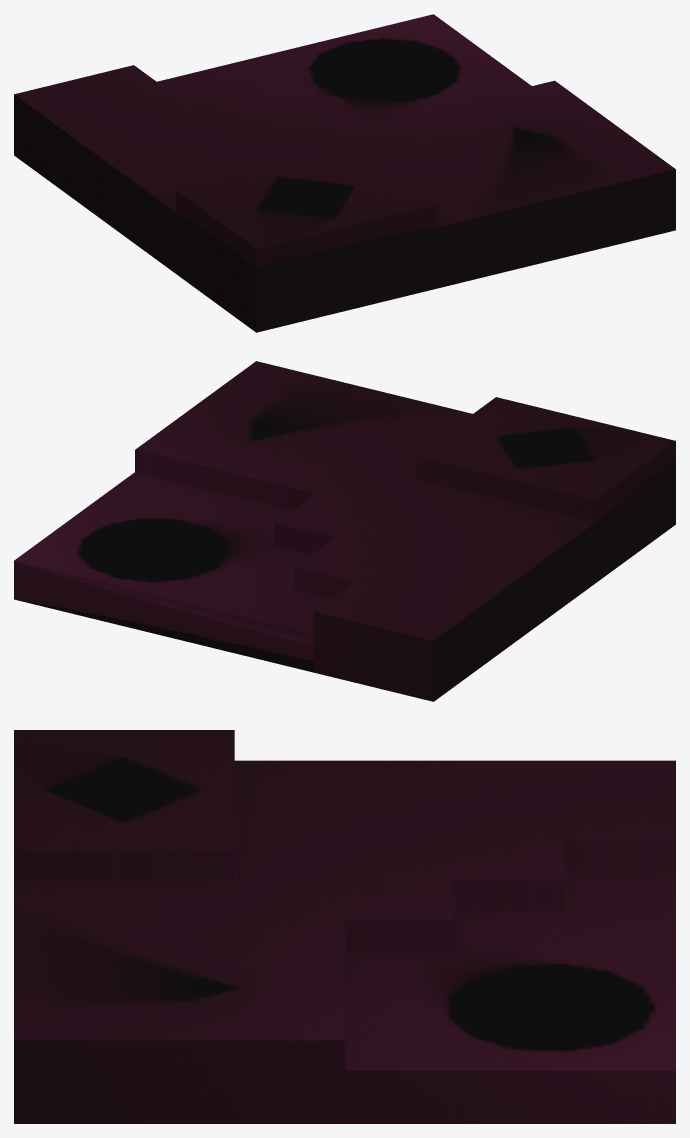
File: map.gltf
3 views of the same model, one above another, from view 1: azimuth 30°, elevation 25°; view 2: azimuth 150°, elevation 25°; view 3: azimuth 270°, elevation 25° (orthographic). The views are drawn at different scales.
Parts seen in each view (by area): view 1: Cube.006; view 2: Cube.006; view 3: Cube.006.
Part boxes in pixels (x1,y1,x2,y2): Cube.006: (14,14,675,332); Cube.006: (14,361,675,701); Cube.006: (14,730,675,1123).
Bounding box in the file's own units: 10 × 1.9 × 10.
1 material, 1 textured.
